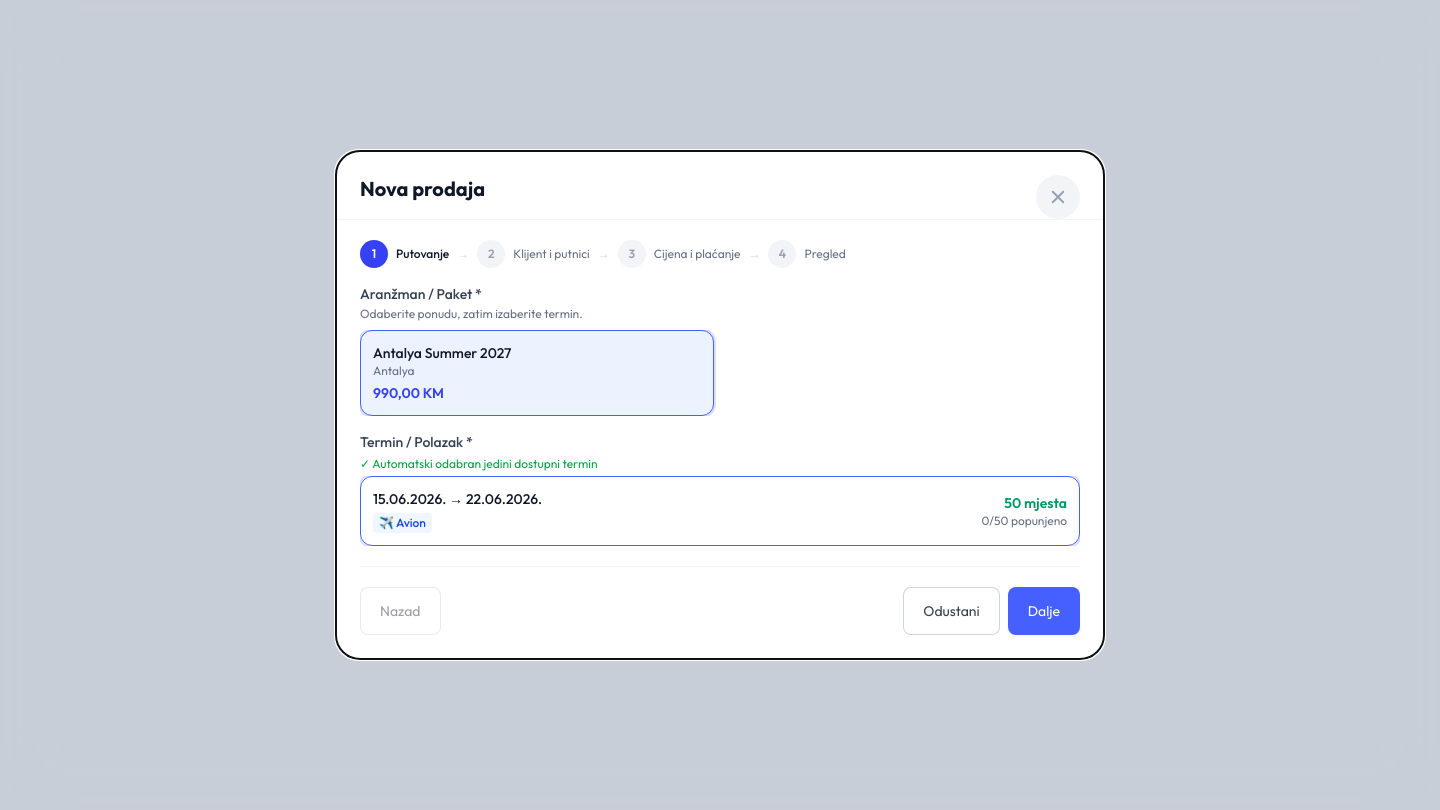
Test case: NewSaleWizard — accommodation resolution race › Travelers → Accommodation after successful response with options
Expected: the text "Antalya Summer 2027" is shown, [373,344,511,362]
Click the button "Dalje".
click(1044, 611)  # box [1008,587,1080,635]
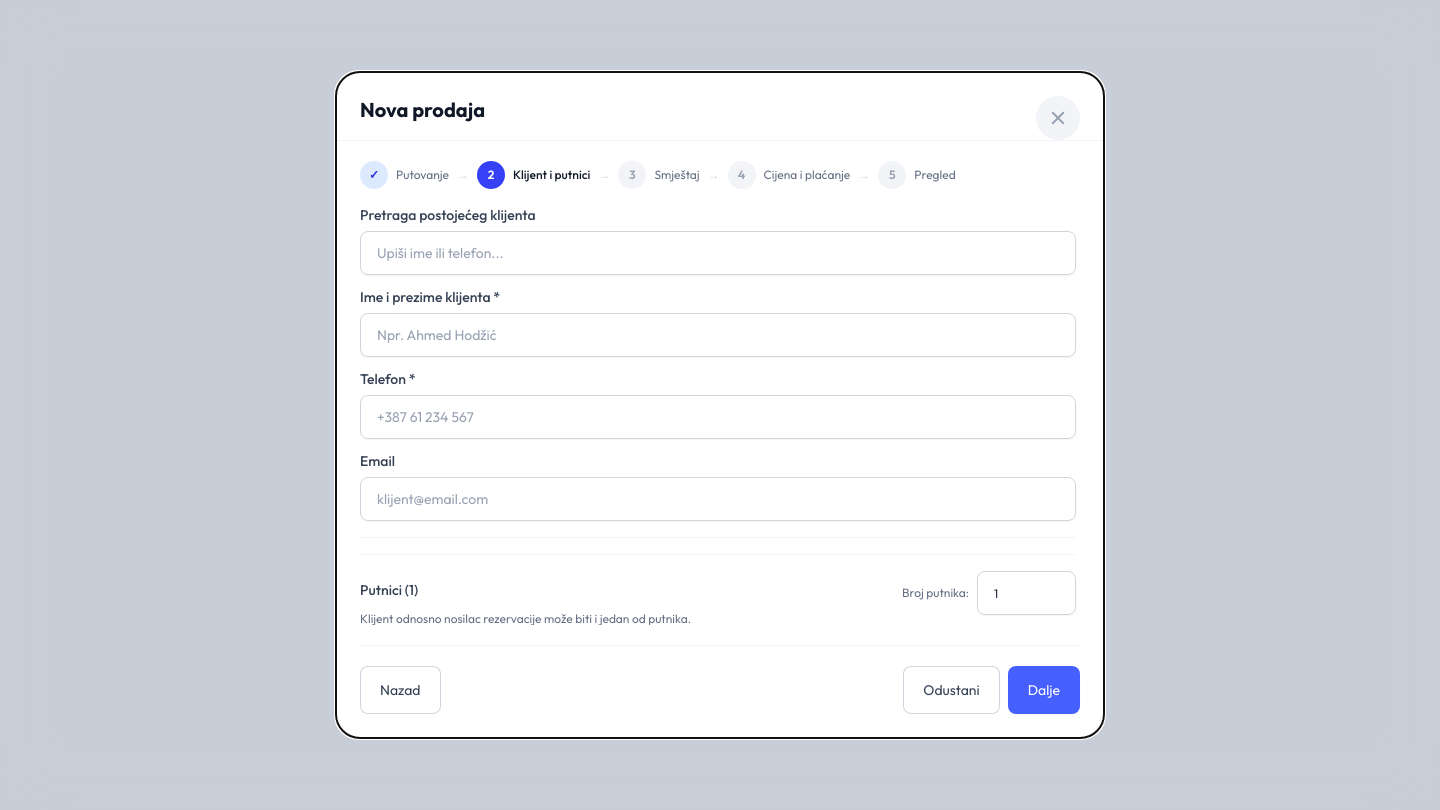
Now the text "Ime i prezime klijenta *" is shown, box [360,288,500,306]
Type "Amina" into the field with placeholder "Npr. Ahmed Hodžić".
click(718, 335); type("Amina")  # box [360,313,1076,357]
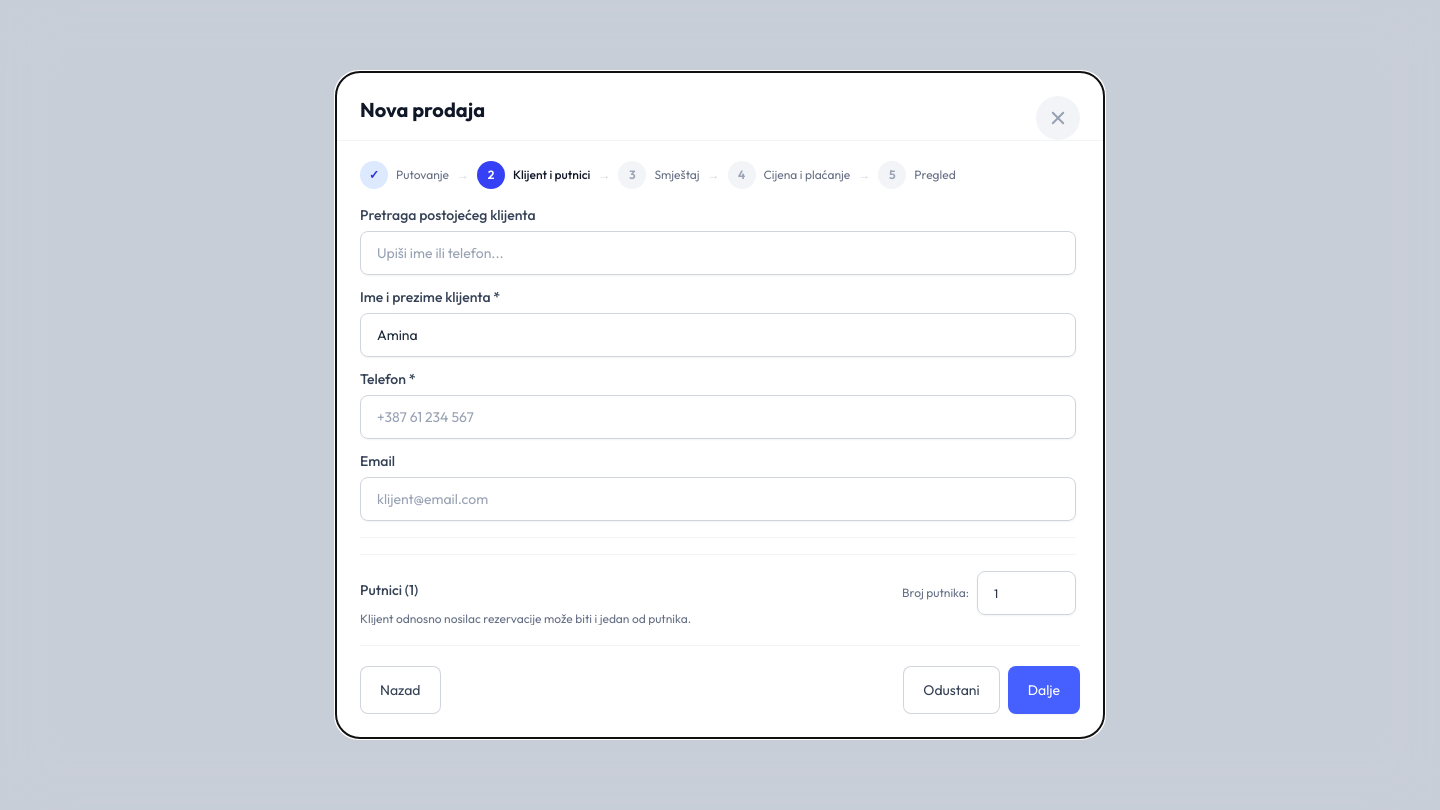
Type "+38761000000" into the field with placeholder "+387 61 234 567".
click(718, 417); type("+38761000000")  # box [360,395,1076,439]
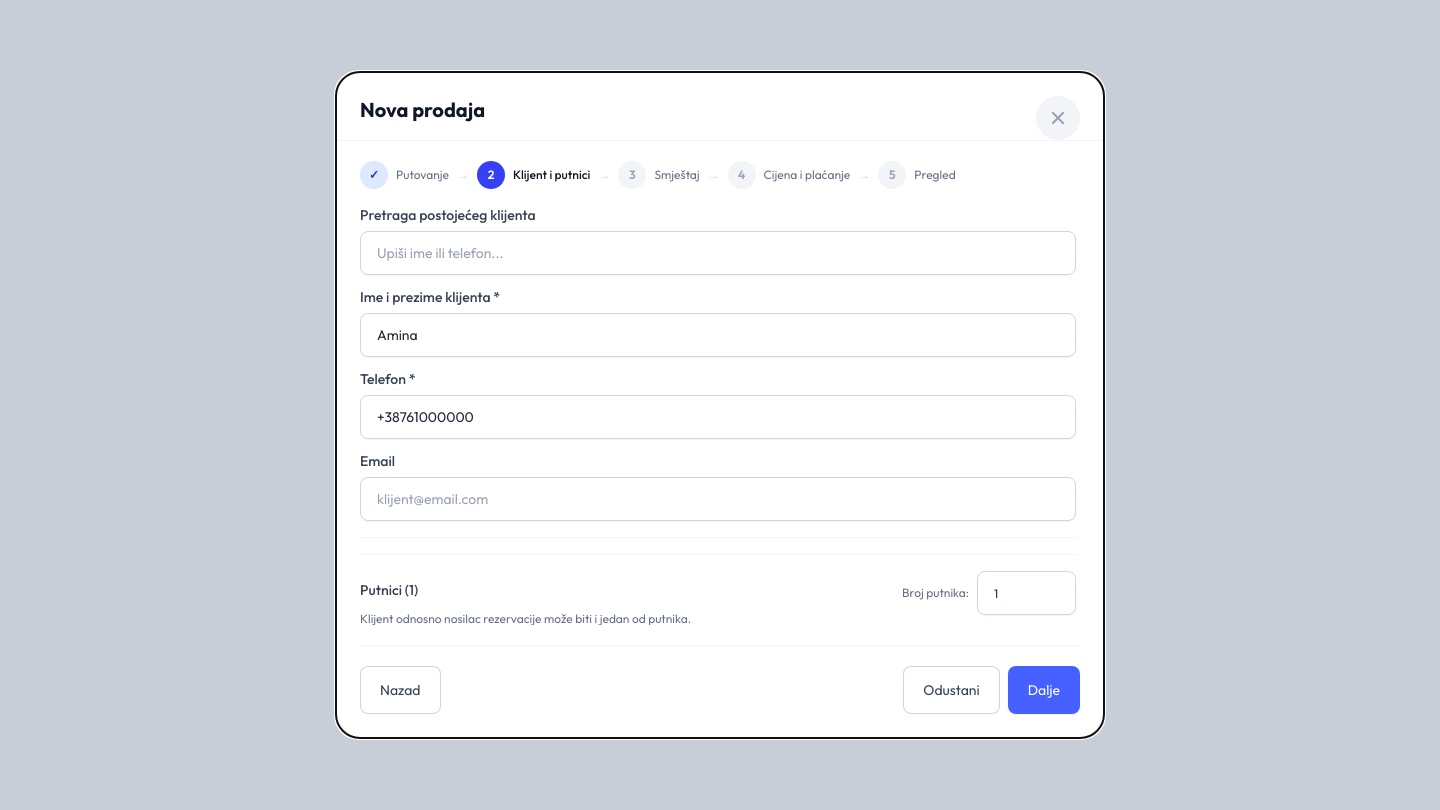
Click the button "Dalje".
click(1044, 690)  # box [1008,666,1080,714]
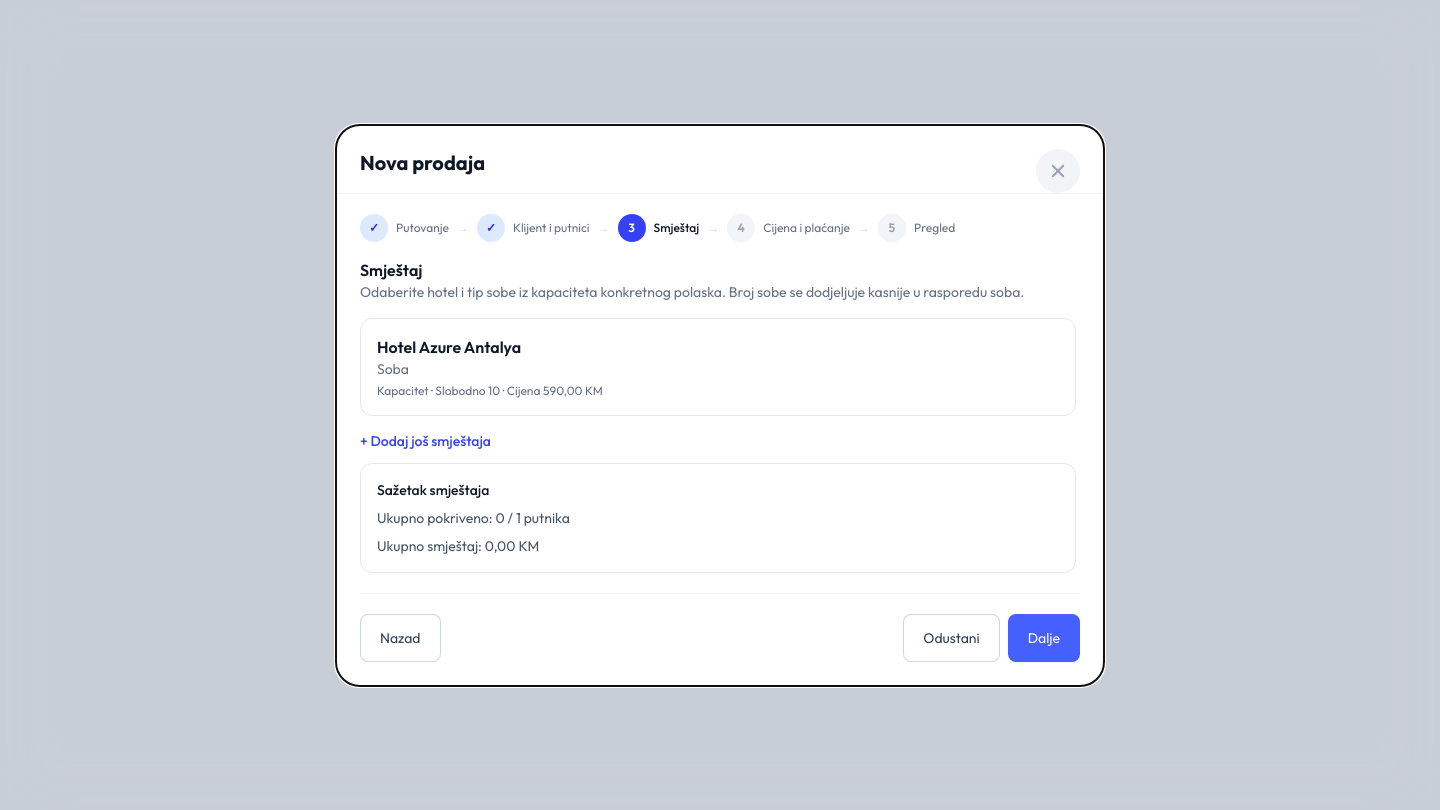
Now the text "Hotel Azure Antalya" is shown, box [377,336,521,356]
